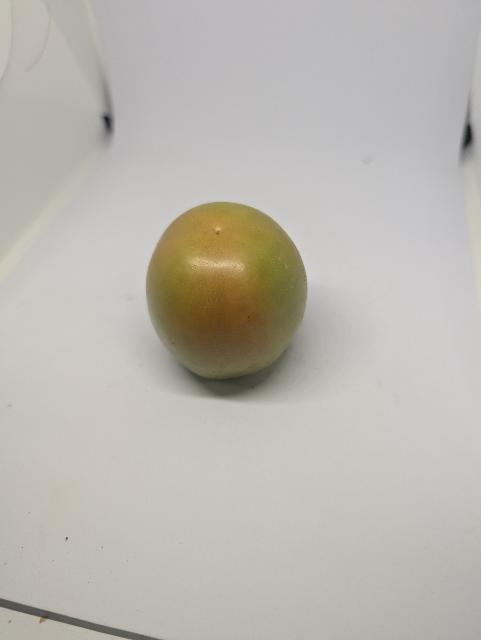breaker: (147, 202, 308, 379)
